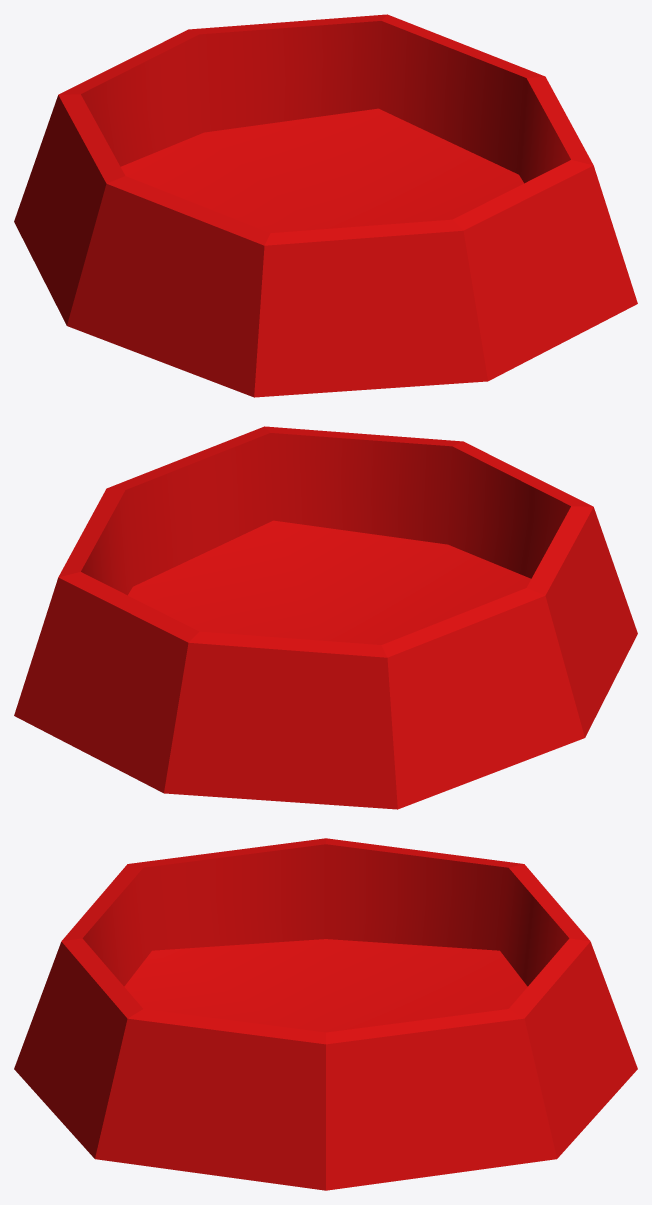
The model's file is Yard_BackYard_DogHouse_foodDish.FBX.
The picture shows the model from 3 angles, top to bottom: view 1: azimuth 30°, elevation 25°; view 2: azimuth 150°, elevation 25°; view 3: azimuth 270°, elevation 25°; orthographic projection. The views are drawn at different scales.
Parts seen in each view (by area): view 1: Yard_BackYard_DogHouse_foodDish; view 2: Yard_BackYard_DogHouse_foodDish; view 3: Yard_BackYard_DogHouse_foodDish.
Part boxes in pixels (x1,y1,x2,y2): Yard_BackYard_DogHouse_foodDish: (14, 14, 637, 397); Yard_BackYard_DogHouse_foodDish: (14, 426, 637, 809); Yard_BackYard_DogHouse_foodDish: (14, 838, 637, 1190).
Bounding box in the file's own units: 93.83 × 23.5 × 102.
